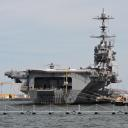Portanaves: (6, 6, 124, 106)
